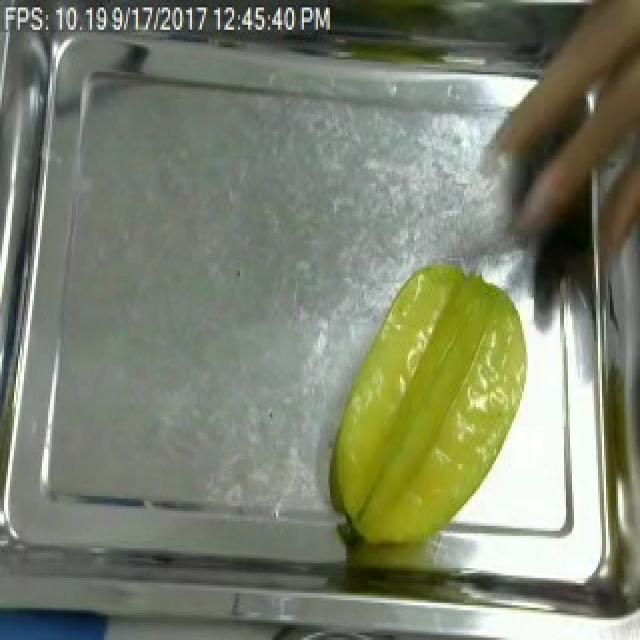fruit: (320, 250, 540, 566)
